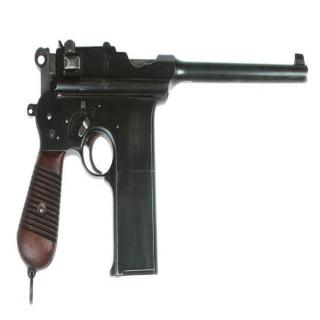gun: (12, 37, 311, 301)
